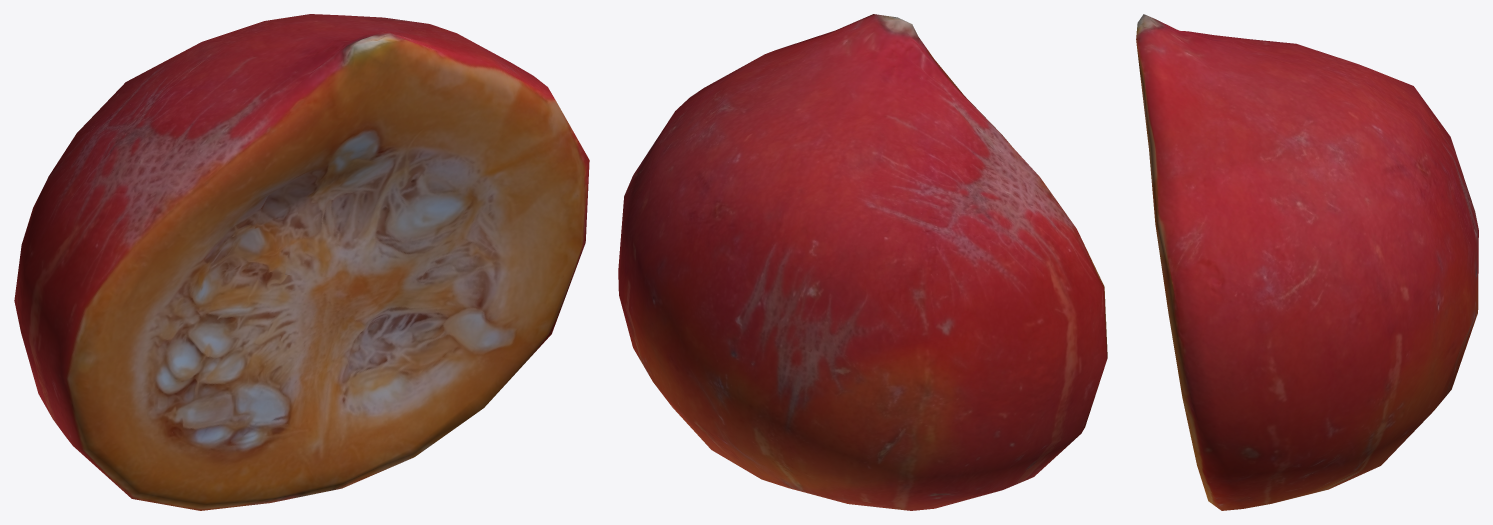
File: A149_Pumpkin_low.fbx
3 views of the same model, side by side, from view 1: azimuth 30°, elevation 25°; view 2: azimuth 150°, elevation 25°; view 3: azimuth 270°, elevation 25° (orthographic). The views are drawn at different scales.
Visible parts, largest first — view 1: A149_Pumpkin_low; view 2: A149_Pumpkin_low; view 3: A149_Pumpkin_low.
Part boxes in pixels (x1,y1,x2,y2): A149_Pumpkin_low: (14, 14, 589, 510); A149_Pumpkin_low: (618, 14, 1107, 510); A149_Pumpkin_low: (1136, 14, 1478, 510).
Bounding box in the file's own units: 10.95 × 6.5 × 9.7.
1 material, 1 textured.
